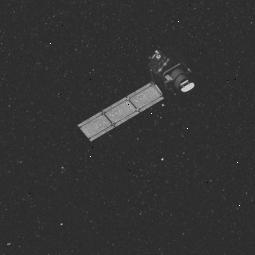earth_observation_sat_1: (119, 49, 201, 119)
